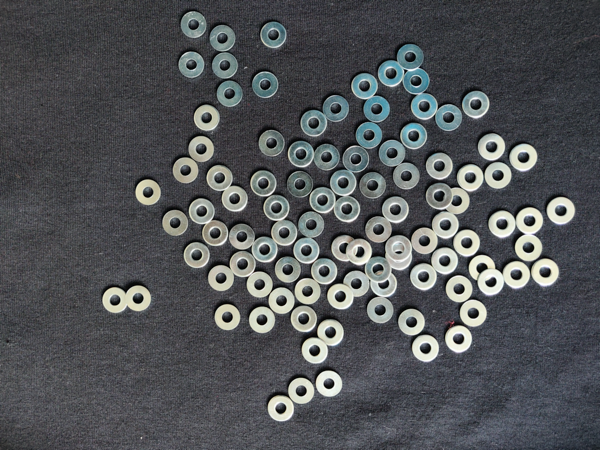circle: (259, 20, 289, 50), (532, 258, 561, 288), (179, 9, 208, 39), (188, 135, 218, 164), (510, 143, 539, 172), (484, 161, 513, 190), (548, 196, 576, 226), (517, 206, 545, 236), (404, 66, 432, 96), (213, 302, 241, 332), (134, 178, 162, 208), (503, 262, 531, 291), (478, 132, 506, 161), (463, 90, 491, 119), (398, 309, 427, 337), (250, 72, 279, 100), (177, 50, 205, 79), (162, 208, 190, 237), (101, 286, 128, 316), (469, 254, 497, 282), (445, 325, 473, 353), (425, 152, 453, 180), (248, 307, 276, 335), (209, 24, 237, 52), (207, 164, 235, 192), (182, 241, 210, 269), (478, 269, 505, 298), (446, 275, 473, 304), (459, 300, 488, 327), (343, 271, 370, 300), (317, 320, 346, 347), (323, 94, 350, 123), (250, 169, 277, 198), (258, 129, 285, 158), (515, 235, 545, 261), (489, 210, 516, 238), (453, 230, 481, 257), (412, 335, 439, 363), (385, 236, 413, 263), (288, 377, 315, 405), (268, 396, 295, 424), (287, 171, 314, 199), (251, 236, 278, 264), (222, 186, 249, 214), (126, 284, 153, 312), (291, 305, 317, 334), (443, 188, 470, 215), (355, 122, 382, 149), (365, 216, 392, 243), (317, 372, 344, 399), (331, 235, 358, 262), (352, 73, 379, 100), (343, 146, 370, 173), (301, 110, 328, 137), (287, 141, 314, 168), (218, 80, 245, 107), (193, 104, 221, 130), (433, 212, 459, 240), (380, 139, 406, 167), (247, 271, 273, 299), (212, 52, 238, 80), (459, 163, 484, 192), (206, 266, 235, 291), (432, 248, 458, 275), (437, 104, 463, 131), (368, 298, 395, 324), (395, 164, 422, 190), (398, 44, 425, 70), (379, 60, 405, 87), (360, 173, 387, 199), (328, 284, 354, 311), (335, 197, 362, 223), (294, 238, 320, 265), (311, 259, 338, 285), (189, 199, 215, 226), (413, 227, 438, 255), (385, 245, 413, 270), (270, 288, 295, 316), (316, 144, 340, 173), (412, 264, 438, 290), (365, 97, 391, 123), (230, 252, 256, 278), (301, 339, 328, 364), (330, 170, 357, 195), (311, 187, 336, 214), (265, 194, 290, 221), (173, 158, 200, 183), (273, 219, 297, 247), (427, 184, 453, 209), (383, 197, 409, 222), (412, 94, 437, 120), (347, 240, 373, 265), (296, 279, 322, 304), (276, 258, 301, 284), (230, 224, 256, 249), (371, 273, 398, 297), (402, 123, 427, 148), (300, 213, 324, 239), (202, 222, 228, 246), (366, 258, 391, 282)
